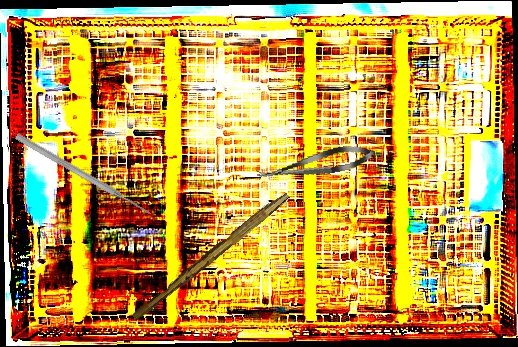Micro Scissor: (254, 140, 378, 188)
Pusher: (13, 131, 154, 219)
Scalpel Handle: (130, 187, 291, 325)
